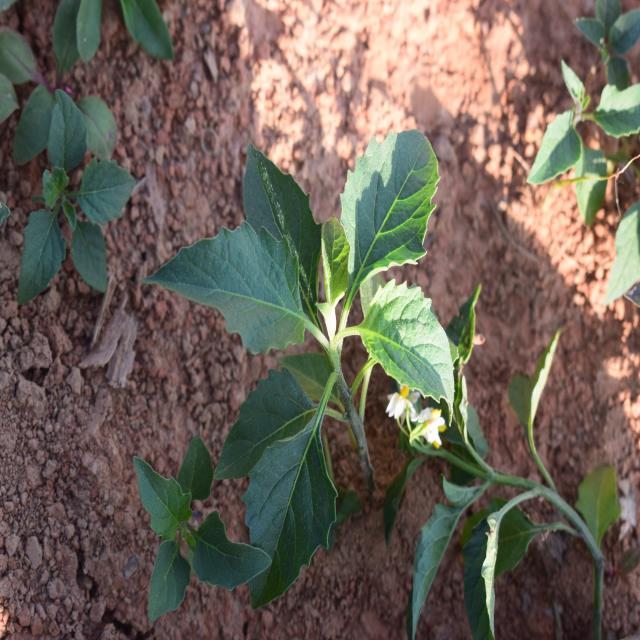Black_nightshade: (191, 117, 454, 543), (17, 104, 147, 295)
